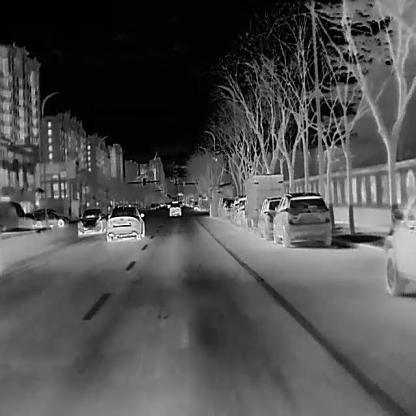car: (382, 194, 416, 293), (272, 190, 332, 246), (106, 203, 144, 242), (254, 195, 281, 239), (76, 207, 107, 235), (34, 207, 69, 227), (231, 196, 245, 226), (18, 212, 42, 228), (221, 196, 233, 219), (168, 199, 180, 215), (191, 200, 198, 210), (150, 202, 155, 209), (178, 199, 182, 206), (166, 200, 170, 206), (154, 202, 158, 207), (159, 202, 163, 206)
truck: (244, 173, 284, 229), (206, 185, 228, 216)
